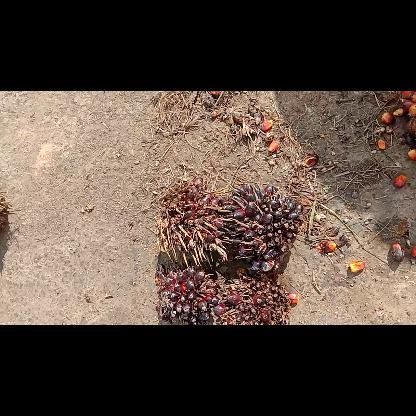TBS abnormal: (226, 182, 302, 272), (157, 178, 231, 268), (214, 266, 290, 324), (155, 264, 219, 324)
